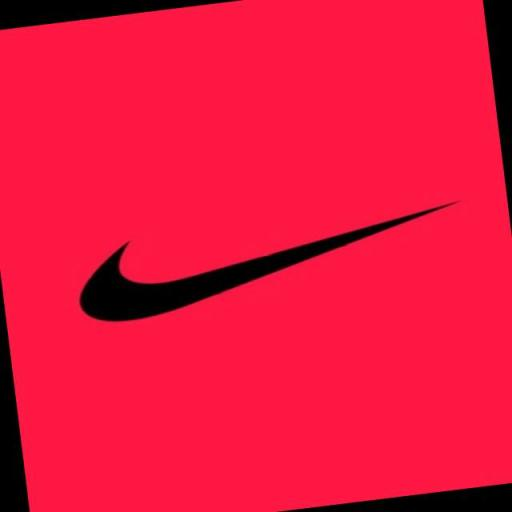Nike: (58, 188, 484, 334)
